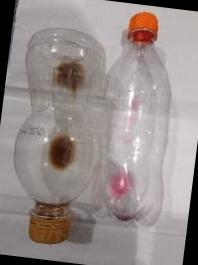Plastik: (14, 29, 108, 243), (106, 12, 171, 224)
